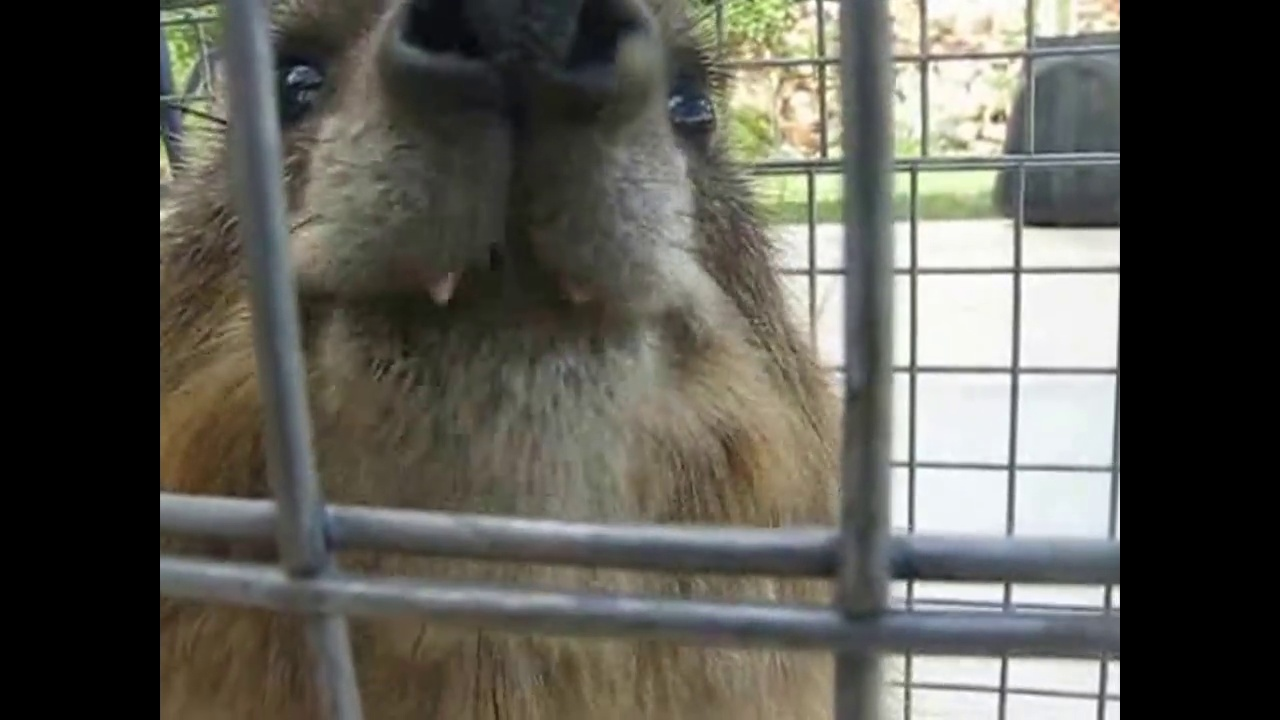Rock Hyrex: (154, 1, 878, 716)
